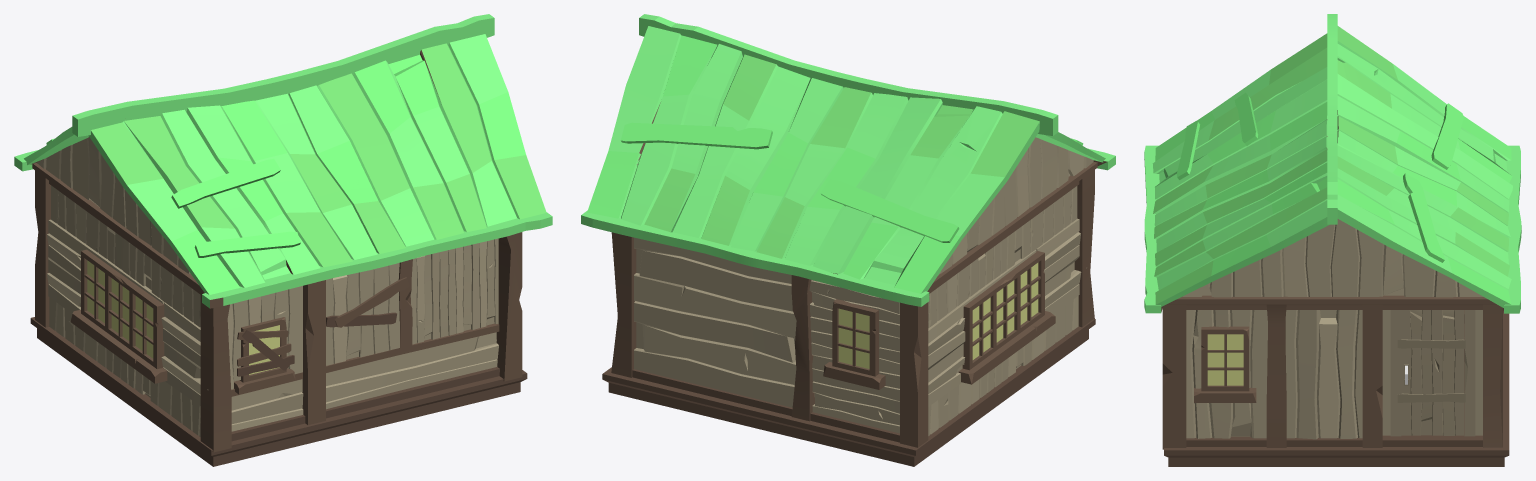
Rendered from greencoloringhouse1.fbx.
3 views of the same model, side by side, from view 1: azimuth 30°, elevation 25°; view 2: azimuth 150°, elevation 25°; view 3: azimuth 270°, elevation 25° (orthographic). The views are drawn at different scales.
Parts seen in each view (by area): view 1: House_1_Roof.016, House.014; view 2: House_1_Roof.016, House.014; view 3: House_1_Roof.016, House.014.
Boxes of the visible parts, x1,y1,x2,y2 form: House_1_Roof.016: (14,14,552,308); House.014: (30,170,527,466); House_1_Roof.016: (581,14,1115,306); House.014: (602,170,1095,466); House_1_Roof.016: (1144,14,1521,313); House.014: (1162,304,1509,466).
Size of the model in its own units: 573 by 395 by 471.
